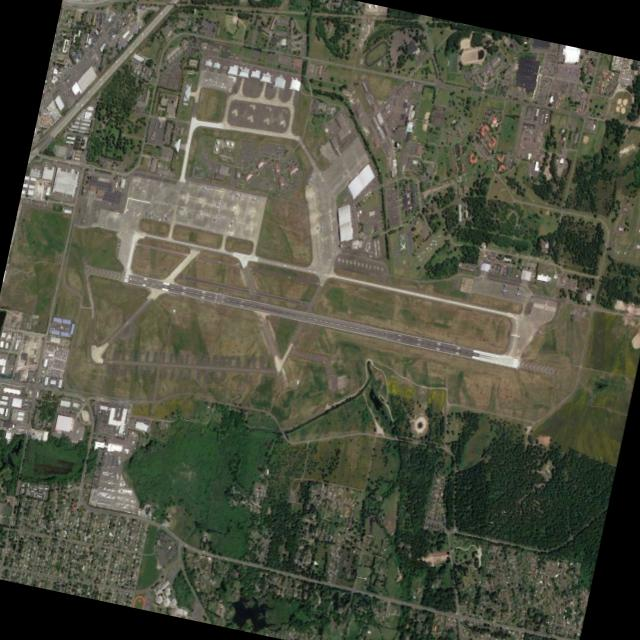plane: (158, 209, 170, 223), (144, 206, 155, 218), (512, 288, 521, 301), (497, 285, 507, 296)
